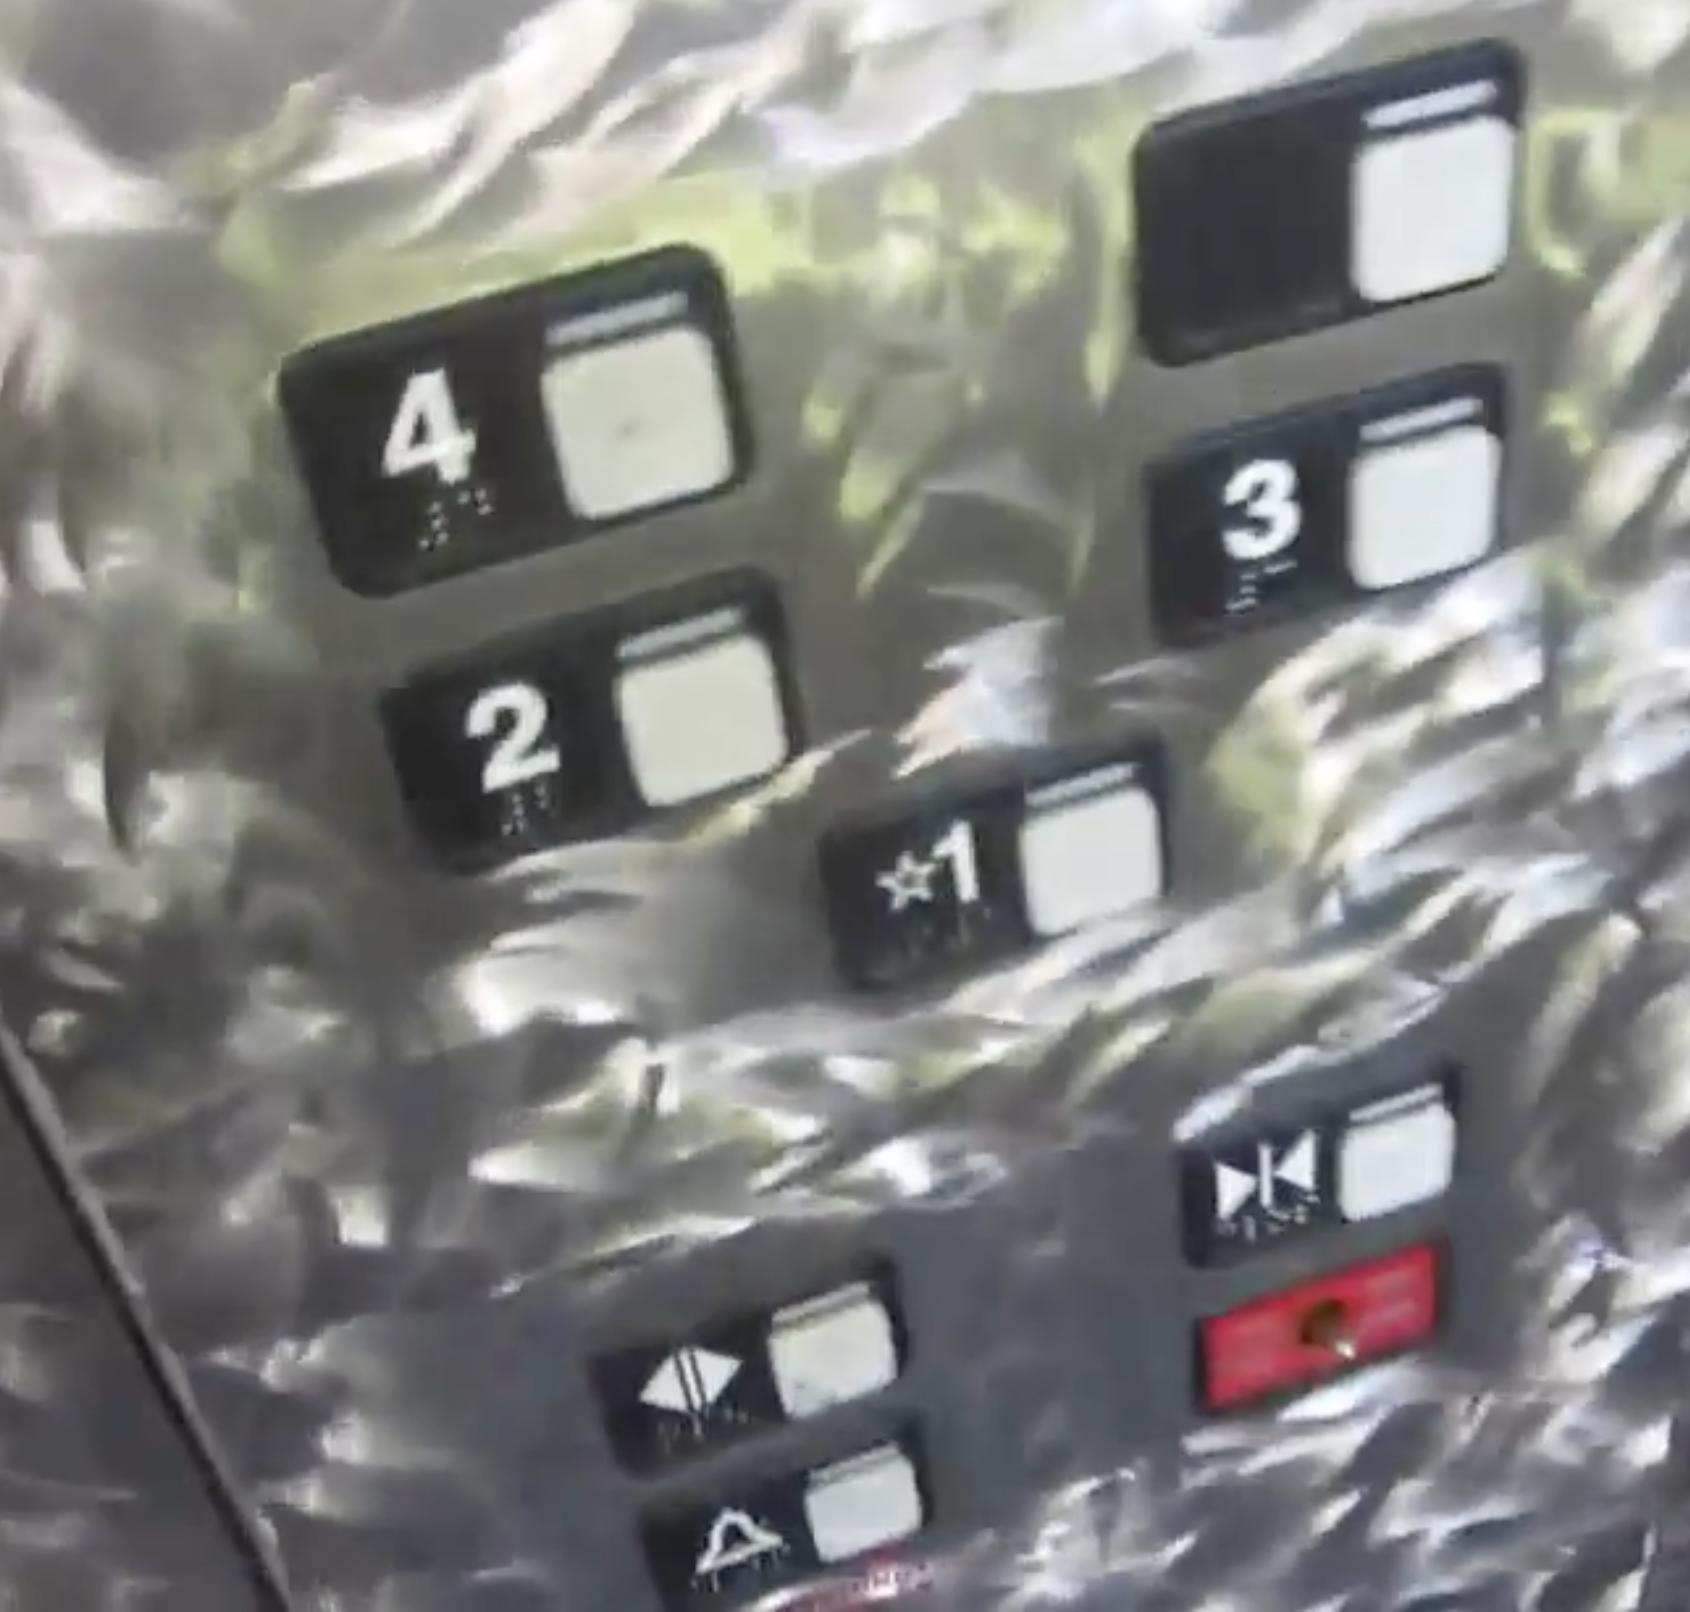2: (364, 549, 815, 891)
3: (1133, 352, 1526, 660)
4: (267, 232, 760, 605)
alarm: (634, 1411, 942, 1612)
bt_switch: (1185, 1229, 1464, 1435)
close: (1172, 1055, 1476, 1275)
empty: (1117, 26, 1533, 374)
open: (581, 1247, 916, 1484)
s1: (806, 715, 1180, 1010)
